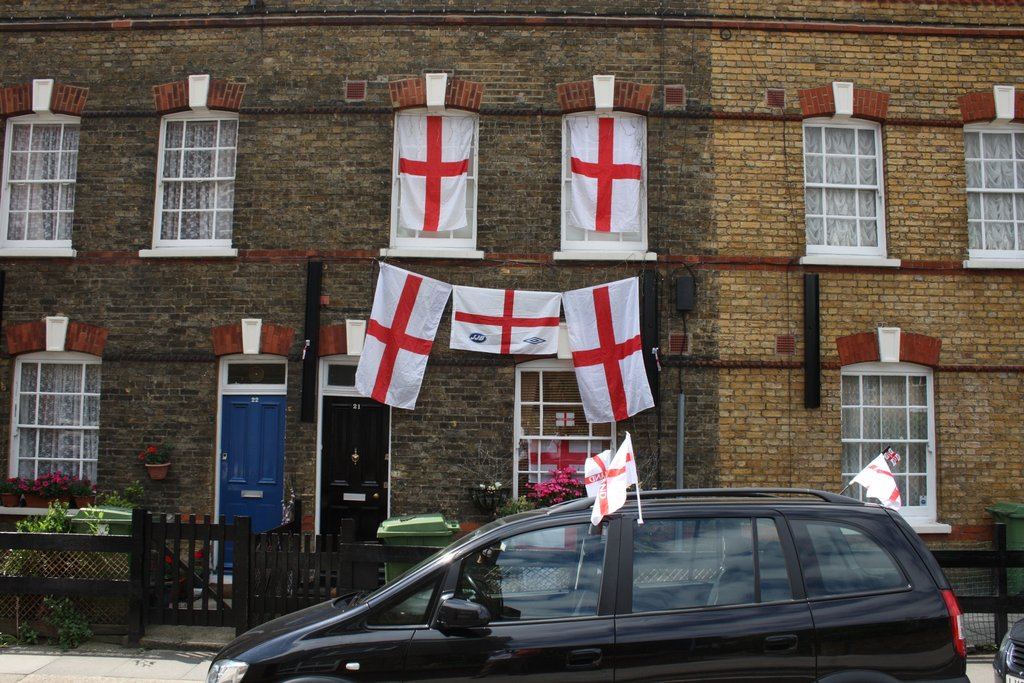Car: (204, 429, 973, 682), (993, 614, 1023, 682)
